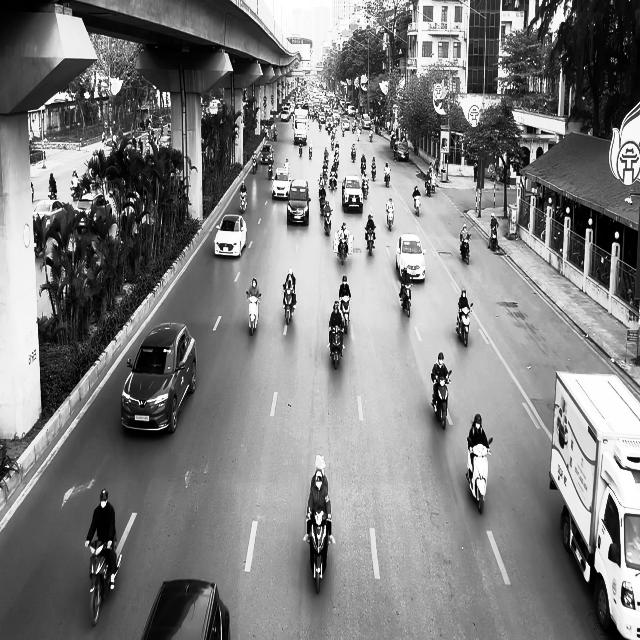car: (121, 321, 197, 434), (140, 578, 231, 640), (396, 233, 426, 283), (214, 213, 247, 258), (287, 179, 311, 226), (342, 175, 364, 213), (272, 168, 293, 199), (394, 141, 409, 161)
motorbike: (86, 540, 122, 626), (466, 436, 493, 514), (307, 509, 332, 593), (431, 369, 452, 429), (328, 324, 346, 369), (456, 302, 473, 347), (247, 292, 261, 336), (283, 284, 296, 325), (400, 279, 413, 317), (339, 296, 352, 334), (365, 226, 377, 255), (460, 233, 471, 264), (338, 237, 348, 265), (489, 222, 499, 250), (323, 207, 332, 235), (386, 204, 394, 230), (413, 193, 421, 216), (240, 190, 247, 212), (268, 160, 274, 180), (384, 170, 391, 187), (252, 156, 258, 173)
truck: (549, 371, 640, 638)
